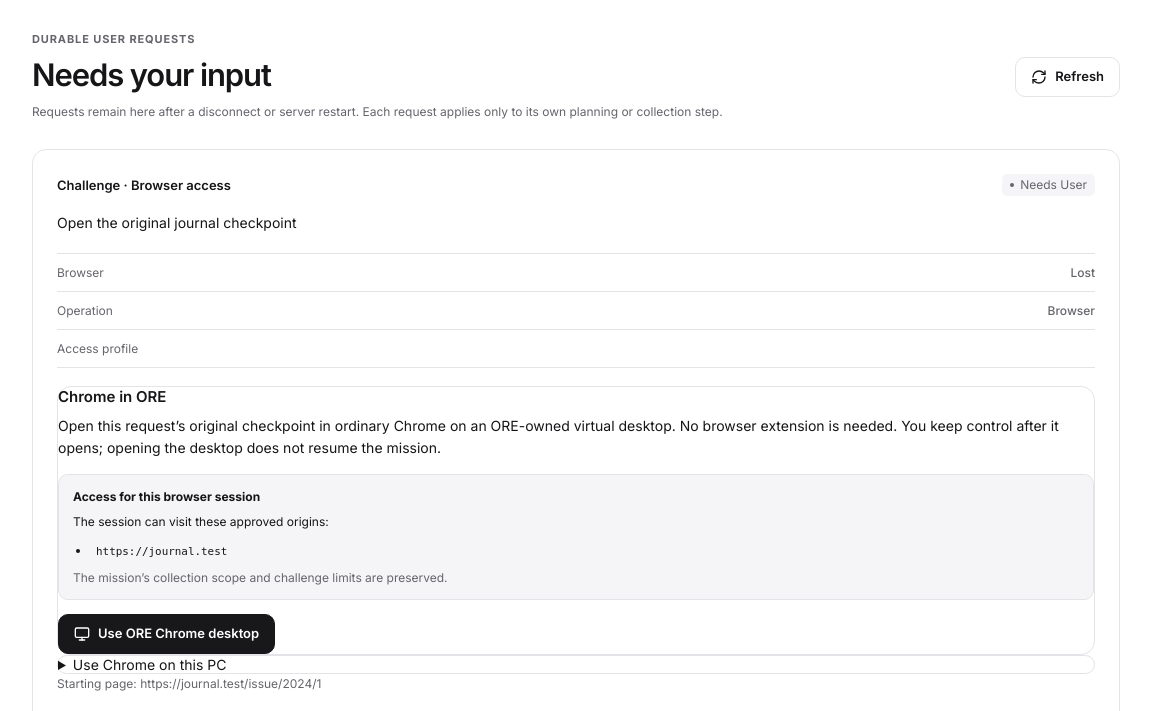
attaches one native desktop using authenticated versioned API and reloads this handoff
Expected: the text "No browser extension is needed" is shown, [58,417,1059,456]
Expected: the heading "Use Chrome on this PC" is shown, [73,656,226,673]
Step 1. Click the button "Use ORE Chrome desktop" → (167, 634), box [58,614,275,654]
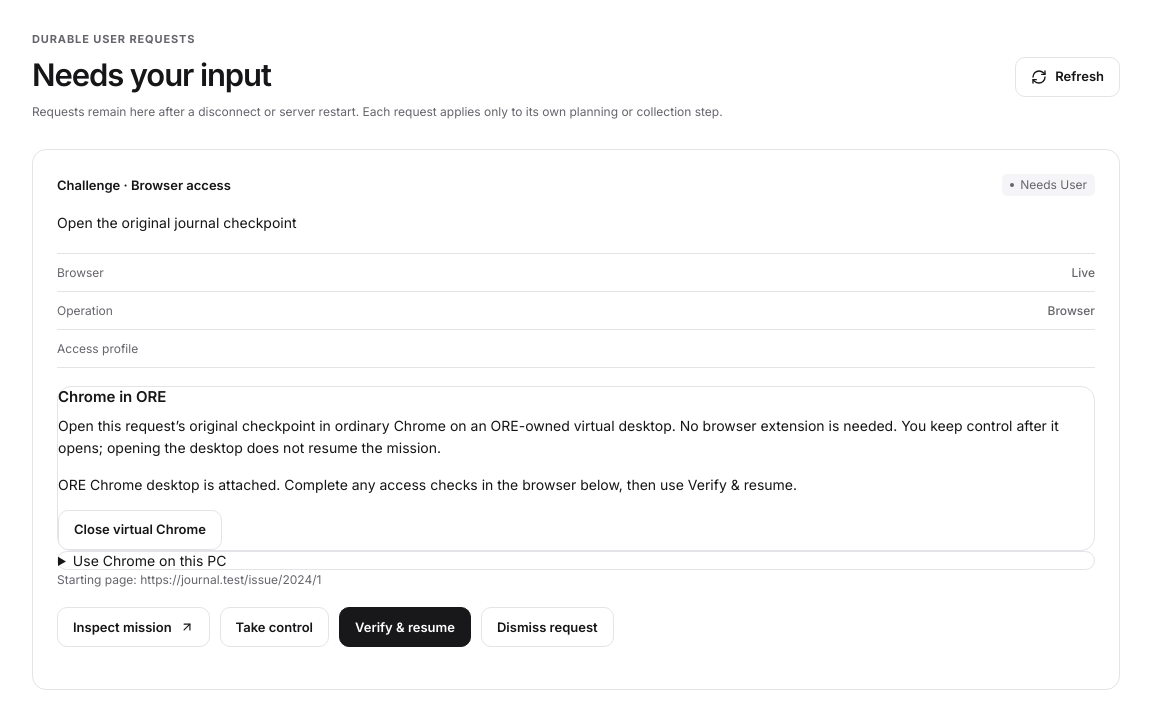
Expected: the text "opening the desktop does not resume the mission" is shown, [58,417,1059,456]
Expected: the text "ORE Chrome desktop is attached" is shown, [58,476,688,492]
